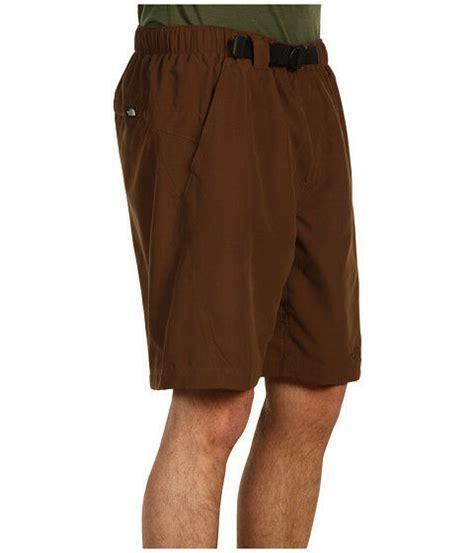short: (114, 26, 362, 391)
